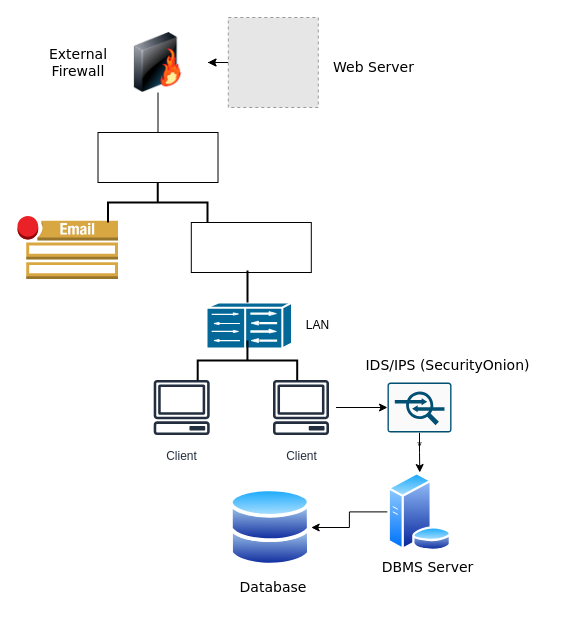
Image size: 565x620. Some labels were removed from this diagram. Grey dashed boxes stand in for pictures. The shapes that lost their labels are listed below. From the top down, each one's box as (x1, y1, x2, y2) in pixels, then its label:
(97, 132, 218, 182): Application Server
(190, 222, 311, 272): Employee Server
